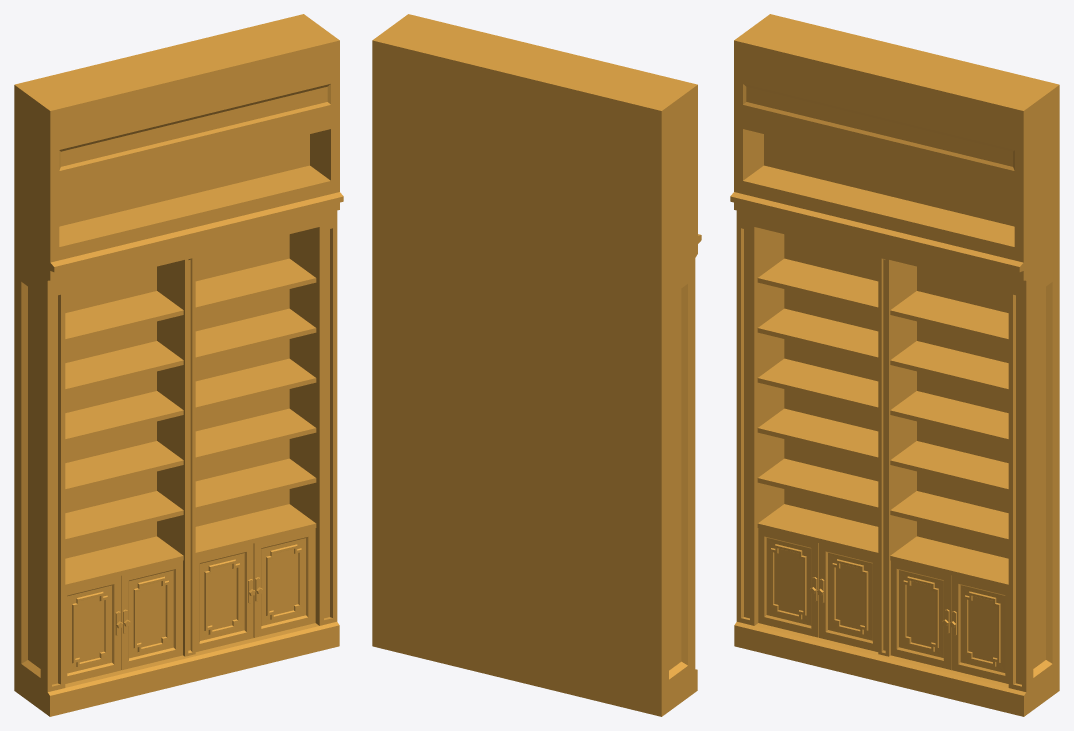
Rendered from Sm_Bookcase_Tall_Modular_Cabinet_2m.fbx.
3 views of the same model, side by side, from view 1: azimuth 30°, elevation 25°; view 2: azimuth 150°, elevation 25°; view 3: azimuth 330°, elevation 25° (orthographic).
Parts seen in each view (by area): view 1: library-tall-modular-cabinet-2m-base, library-tall-modular-cabinet-2m-door-r-b, library-tall-modular-cabinet-2m-door-r-a, library-tall-modular-cabinet-2m-door-l-b, library-tall-modular-cabinet-2m-door-l-a; view 2: library-tall-modular-cabinet-2m-base; view 3: library-tall-modular-cabinet-2m-base, library-tall-modular-cabinet-2m-door-l-a, library-tall-modular-cabinet-2m-door-l-b, library-tall-modular-cabinet-2m-door-r-a, library-tall-modular-cabinet-2m-door-r-b.
Boxes of the visible parts, <box> form: library-tall-modular-cabinet-2m-base: <box>14,14,343,716</box>; library-tall-modular-cabinet-2m-door-r-b: <box>253,528,315,637</box>; library-tall-modular-cabinet-2m-door-r-a: <box>121,560,182,670</box>; library-tall-modular-cabinet-2m-door-l-b: <box>195,543,255,651</box>; library-tall-modular-cabinet-2m-door-l-a: <box>65,575,122,683</box>; library-tall-modular-cabinet-2m-base: <box>372,14,701,716</box>; library-tall-modular-cabinet-2m-base: <box>730,14,1059,716</box>; library-tall-modular-cabinet-2m-door-l-a: <box>758,528,818,637</box>; library-tall-modular-cabinet-2m-door-l-b: <box>891,560,951,669</box>; library-tall-modular-cabinet-2m-door-r-a: <box>817,543,878,651</box>; library-tall-modular-cabinet-2m-door-r-b: <box>949,575,1008,683</box>.
Size of the model in its own units: 2 by 4 by 0.4778.
